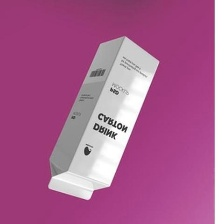carton: (44, 34, 164, 203)
